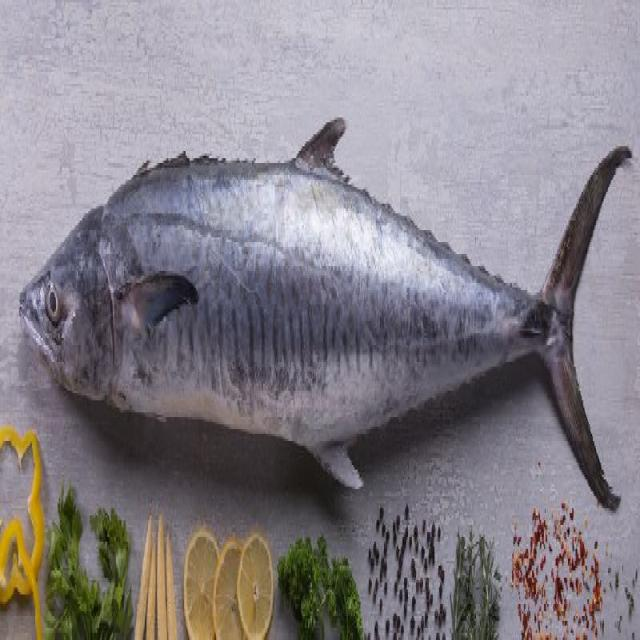seer: (22, 114, 623, 516)
